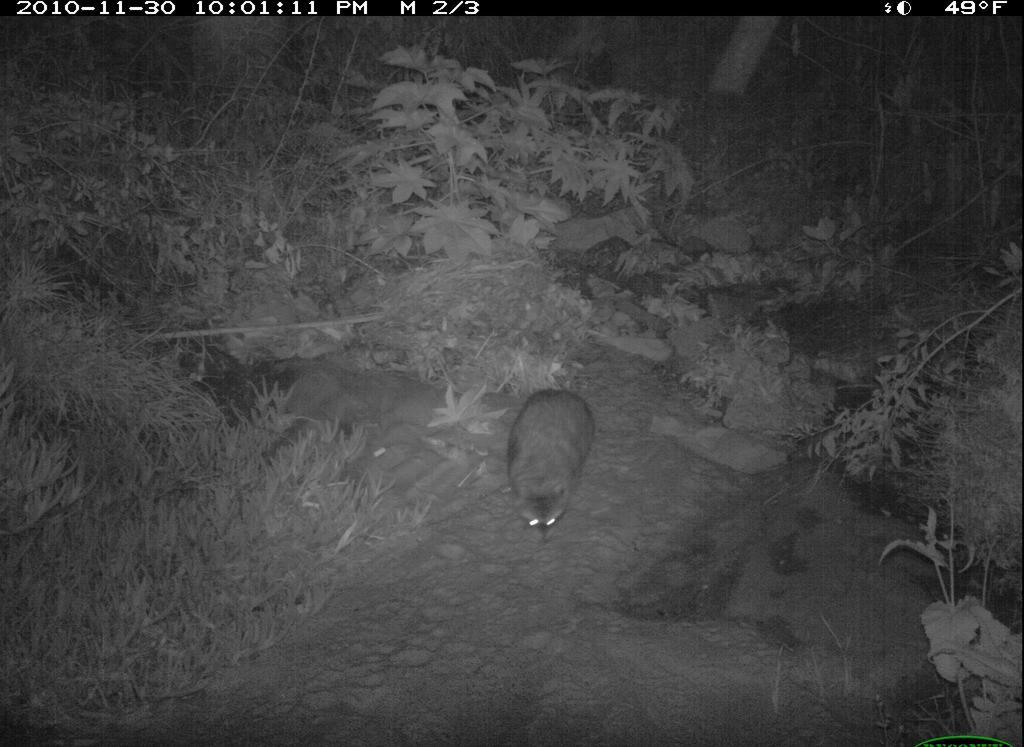raccoon: (501, 383, 601, 543)
